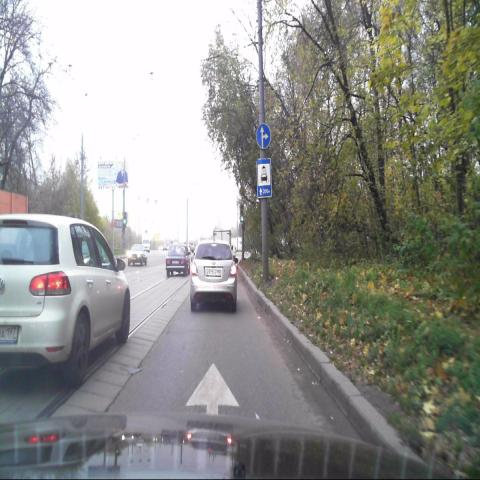7_5: (257, 158, 272, 198)
